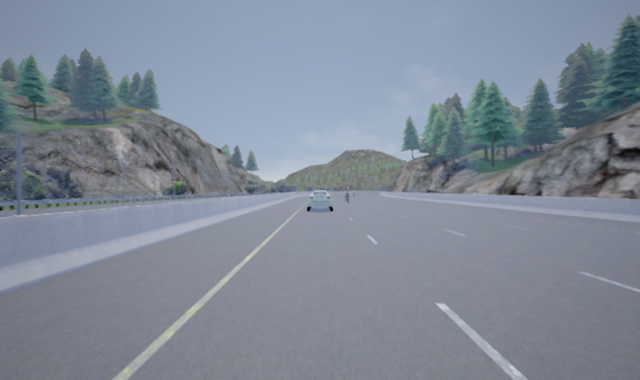vehicle: (306, 190, 333, 211)
